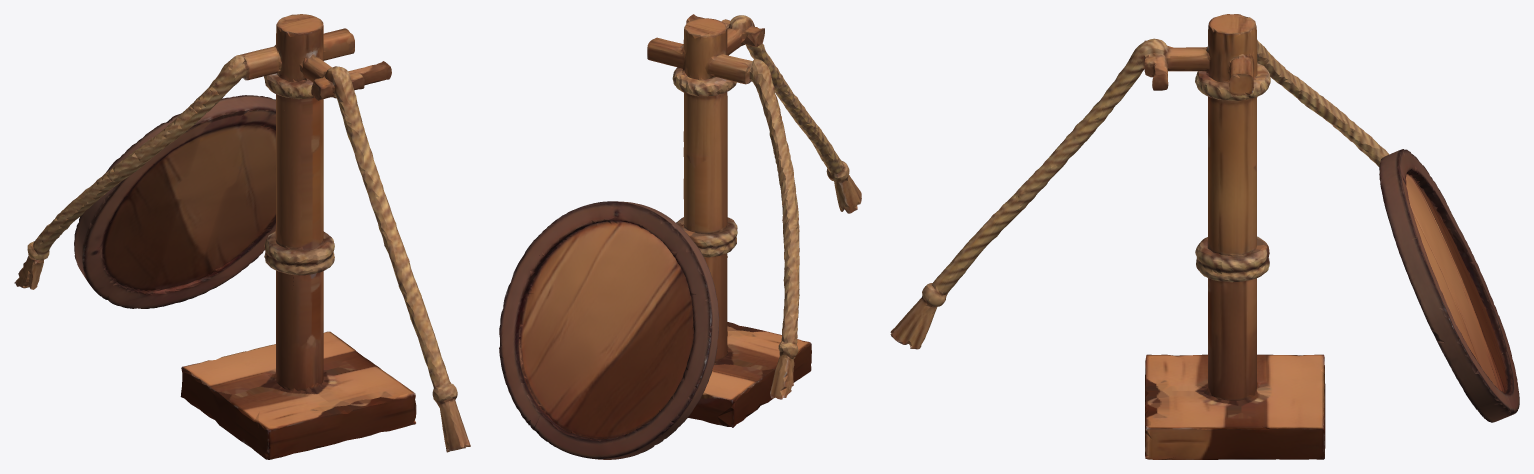
File: Furn_BramRack.glb
3 renders of one model, left to right at view 1: azimuth 30°, elevation 25°; view 2: azimuth 150°, elevation 25°; view 3: azimuth 270°, elevation 25°, orthographic. The views are drawn at different scales.
Parts seen in each view (by area): view 1: Furn_BramRack; view 2: Furn_BramRack; view 3: Furn_BramRack.
Boxes of the visible parts, bbox=[...] form: Furn_BramRack: bbox=[14, 14, 470, 459]; Furn_BramRack: bbox=[499, 14, 861, 459]; Furn_BramRack: bbox=[890, 14, 1519, 459].
Size of the model in its own units: 1.16 by 1.45 by 2.07.
Materials: 1 (1 with a texture image).
